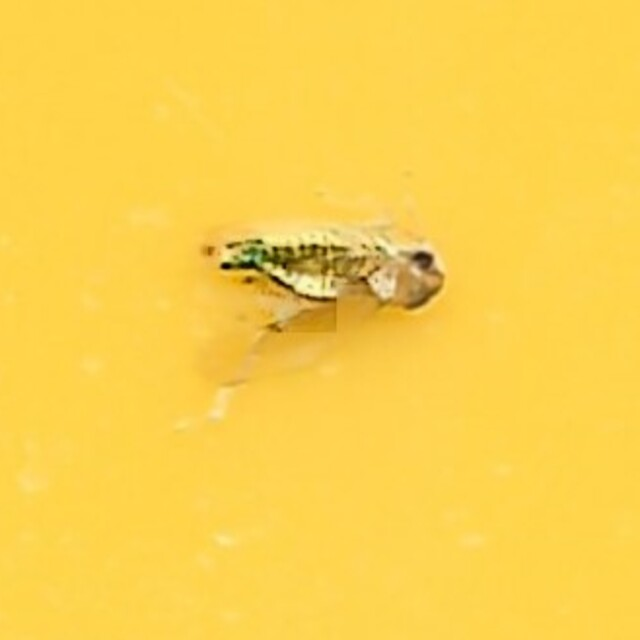Hemiptera: (195, 226, 445, 414)
